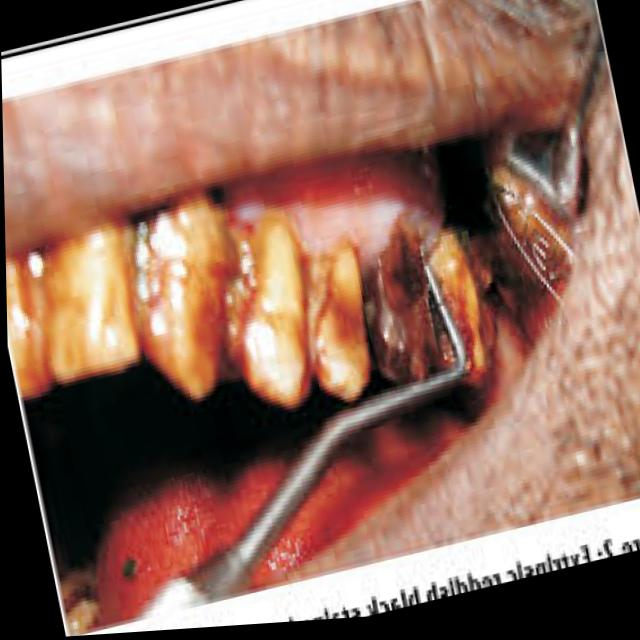tooth-discoloration: (132, 199, 237, 398), (232, 208, 310, 405), (50, 225, 140, 379), (309, 241, 371, 398), (6, 256, 48, 393)
